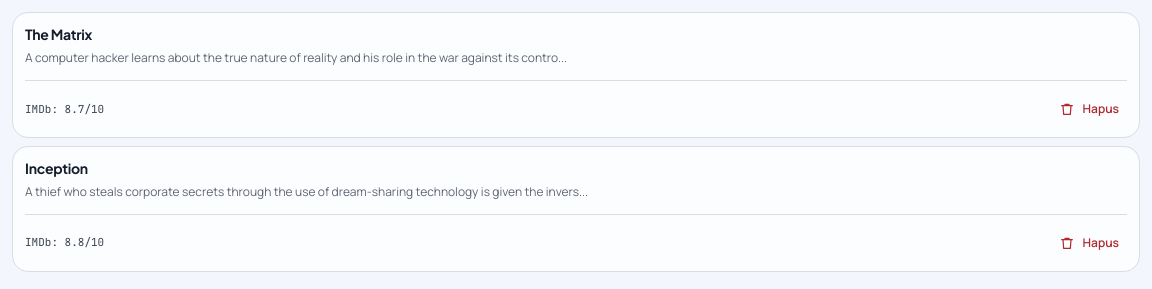
Test: Sidebar Component › shows confirmation dialog when delete button is clicked
The image size is (1152, 289).
Click the 1st button "Hapus" at (1089, 109), box [1050,93,1127,125]
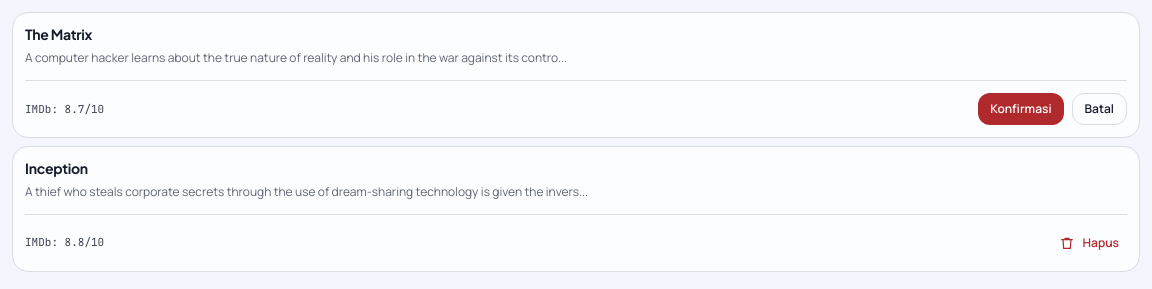
Check: the button "Konfirmasi" is shown, box [978,93,1064,125]
Check: the button "Batal" is shown, box [1072,93,1127,125]
